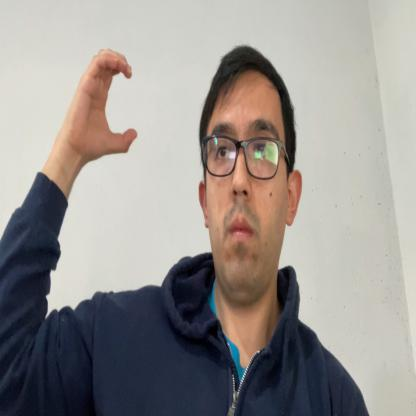C: (75, 46, 138, 162)
